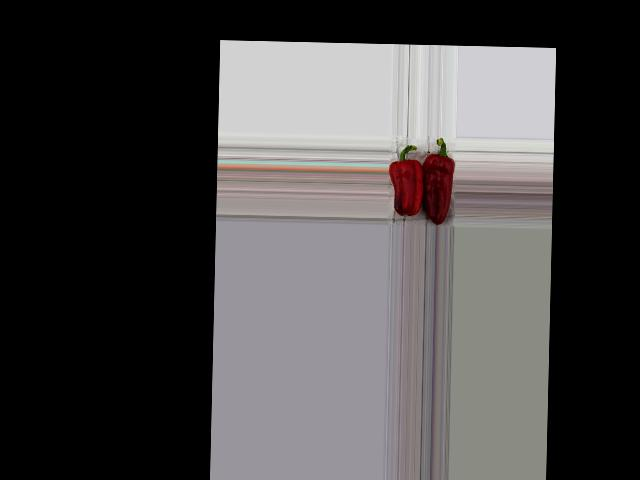bell_pepper: (420, 135, 455, 225)
